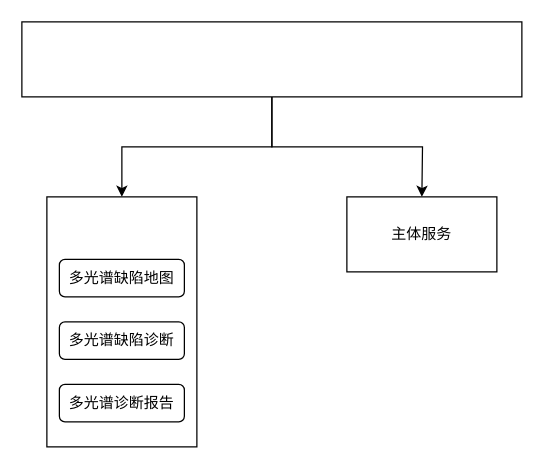
This 544x469 diagram has some shape labels left out. The box of each missing label's shape, as (x1, y1, x2, y2) in pixels:
Tomcat服务器: (21, 21, 522, 97)
web端页面展示: (46, 196, 197, 447)
